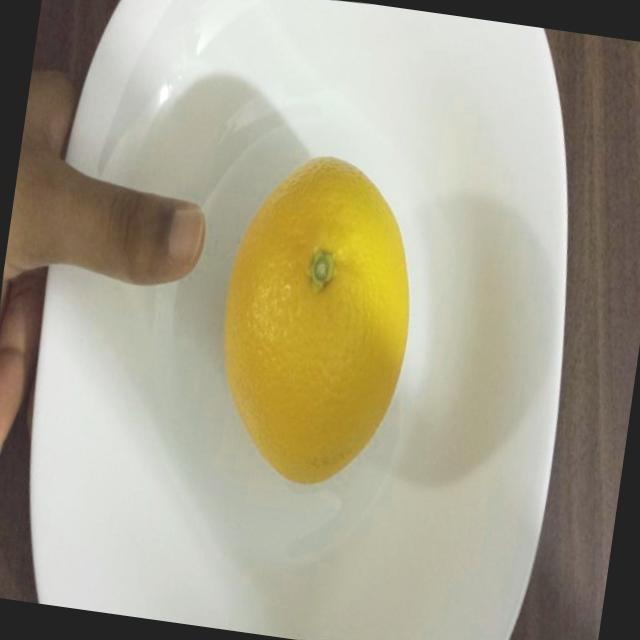Orange: (184, 96, 486, 519)
